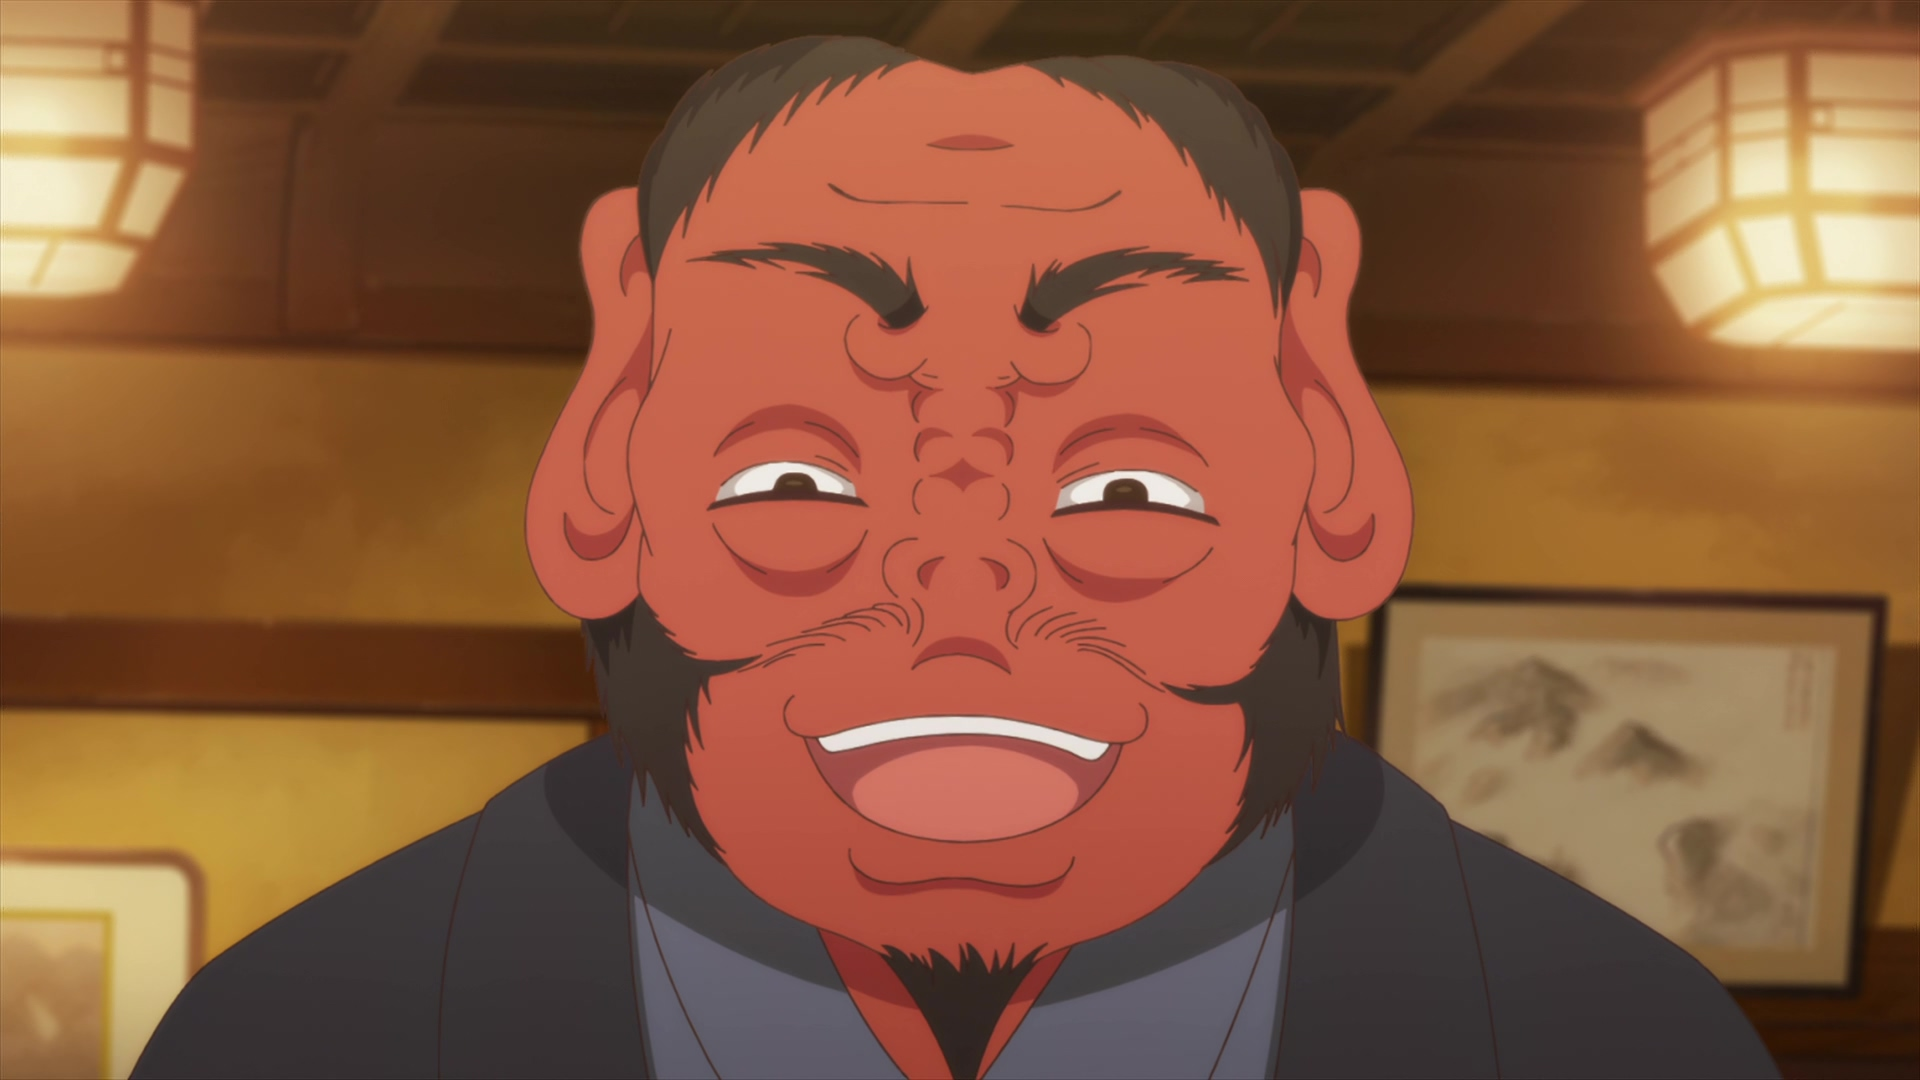其他: (131, 40, 1775, 1080)
